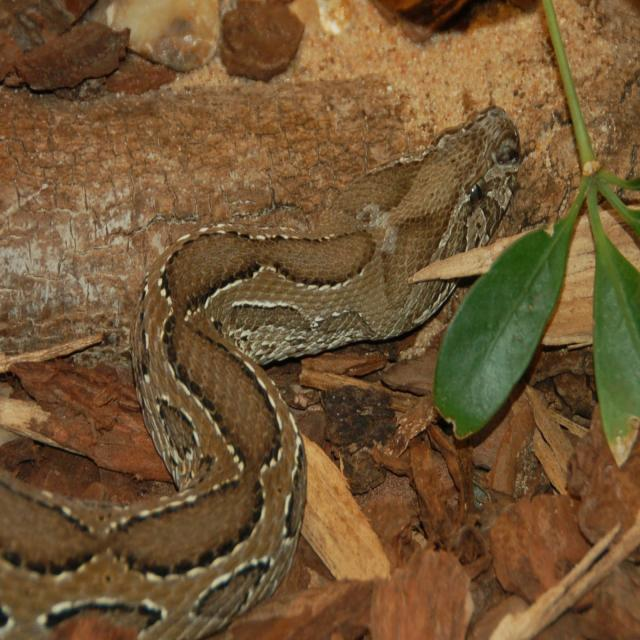Snake: (0, 102, 523, 638)
